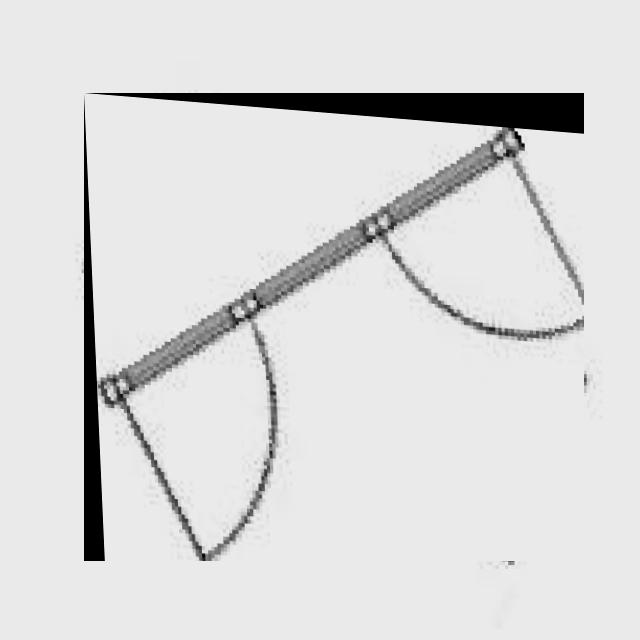door: (84, 94, 584, 562)
